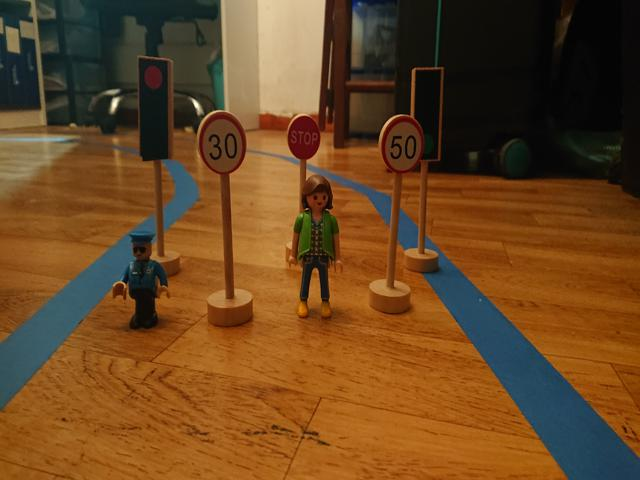30 speed sign: (199, 112, 247, 174)
50 speed sign: (380, 116, 426, 176)
green light: (415, 69, 439, 163)
person: (289, 174, 343, 319), (109, 230, 171, 333)
red light: (141, 63, 168, 146)
stop sign: (285, 113, 323, 160)
